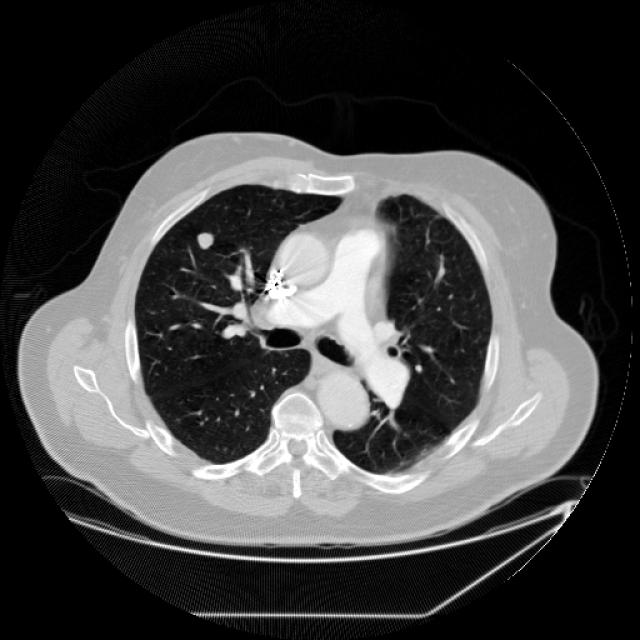nodule: (185, 220, 223, 258)
